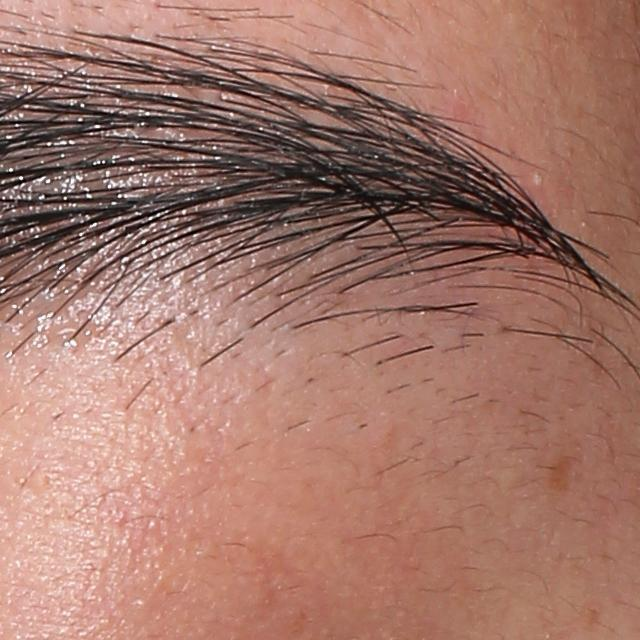melasma: (547, 453, 581, 496)
